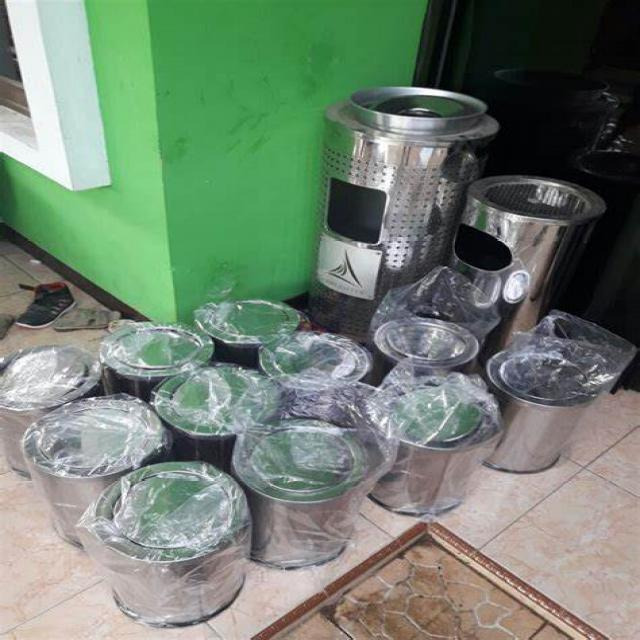garbage container: (322, 76, 507, 321), (92, 454, 250, 636), (468, 152, 600, 336), (490, 343, 630, 509), (242, 421, 372, 594), (370, 376, 500, 536), (17, 398, 145, 538), (98, 301, 215, 404), (162, 364, 272, 469), (198, 284, 301, 380), (270, 338, 372, 424), (0, 338, 84, 436)
